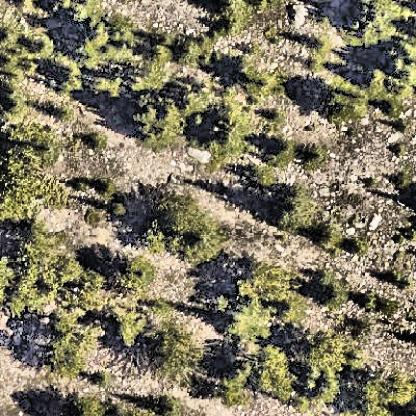tree-top: (136, 190, 228, 262), (11, 237, 80, 312), (0, 140, 58, 220), (230, 256, 306, 313), (228, 340, 297, 402), (32, 318, 102, 379), (145, 316, 203, 382), (297, 328, 357, 391), (347, 368, 416, 416), (200, 97, 256, 154), (127, 96, 192, 145), (271, 182, 325, 231), (349, 2, 407, 44), (324, 74, 370, 122), (114, 254, 158, 298), (311, 268, 355, 310), (134, 39, 172, 85), (106, 306, 144, 350), (214, 0, 259, 34), (177, 29, 215, 67), (221, 303, 259, 339), (75, 388, 119, 416), (310, 218, 343, 251), (267, 137, 297, 173), (19, 31, 56, 60), (242, 69, 274, 101), (78, 30, 109, 59), (300, 141, 327, 174), (91, 72, 123, 98), (377, 95, 406, 123), (158, 389, 186, 416), (86, 127, 111, 156), (62, 0, 92, 24), (1, 84, 25, 112), (310, 33, 334, 54), (57, 56, 79, 78)
